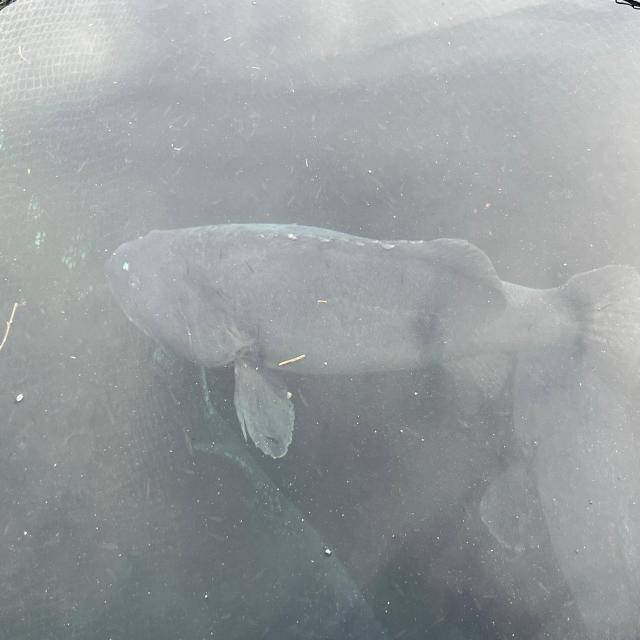ikan: (87, 199, 598, 443)
